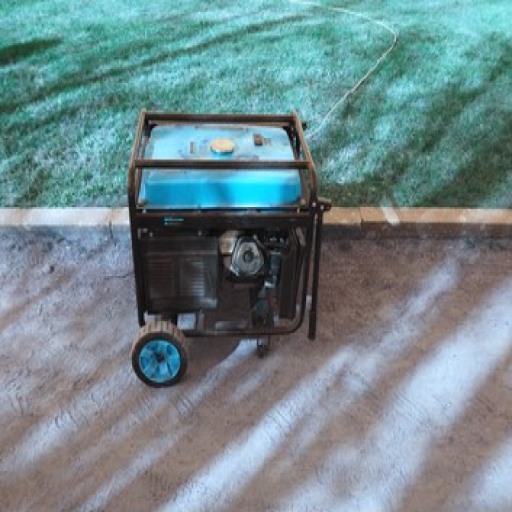portable_generator: (127, 108, 318, 342)
